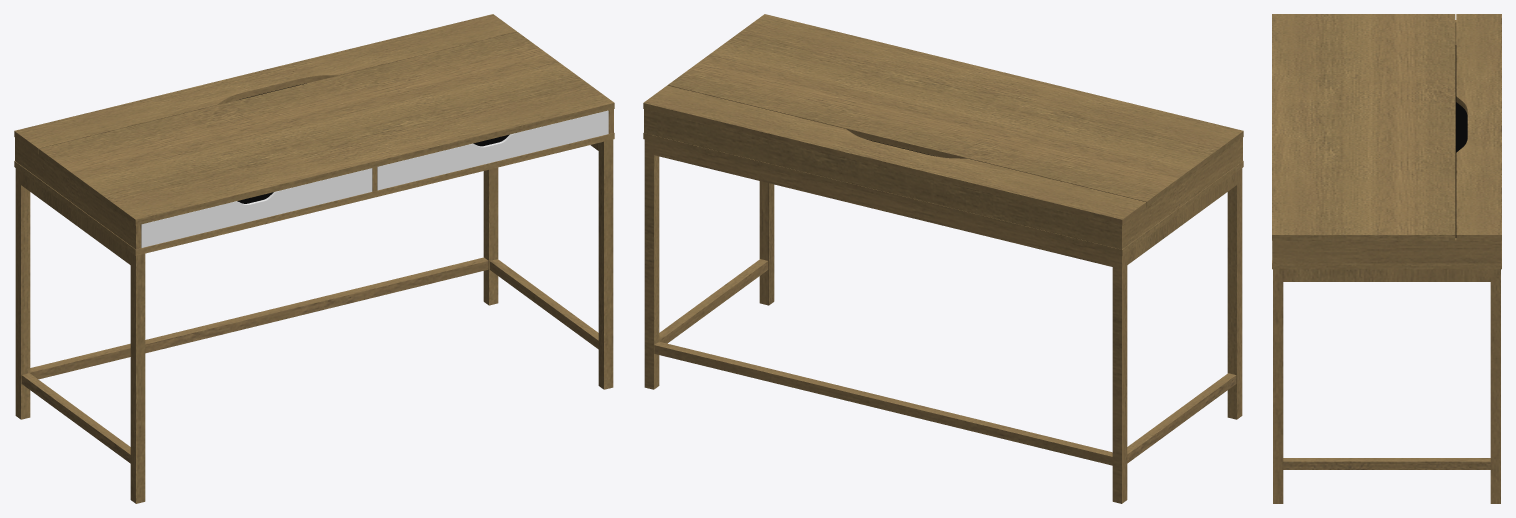
Rendered from SimpleModernDesk.fbx.
3 views of the same model, side by side, from view 1: azimuth 30°, elevation 25°; view 2: azimuth 150°, elevation 25°; view 3: azimuth 270°, elevation 25° (orthographic). The views are drawn at different scales.
Visible parts, largest first — view 1: Desk, DrawerL, DrawerR; view 2: Desk; view 3: Desk.
Boxes of the visible parts, x1,y1,x2,y2 form: Desk: [14, 14, 614, 503]; DrawerL: [141, 168, 372, 247]; DrawerR: [377, 110, 608, 190]; Desk: [643, 14, 1243, 503]; Desk: [1272, 14, 1501, 503].
Bounding box in the file's own units: 132 × 75 × 58.
3 materials, 1 textured.
